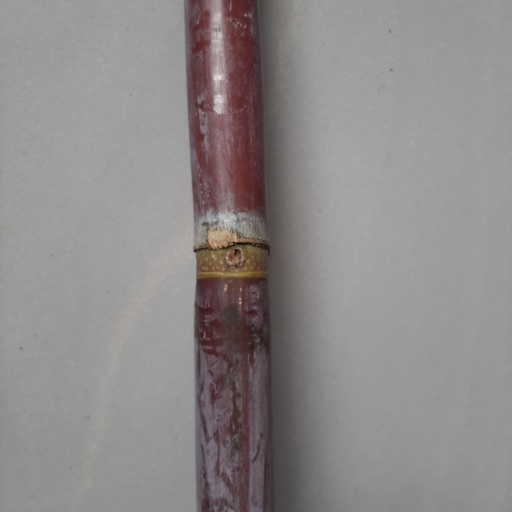Damage_Bud: (225, 246, 245, 270)
